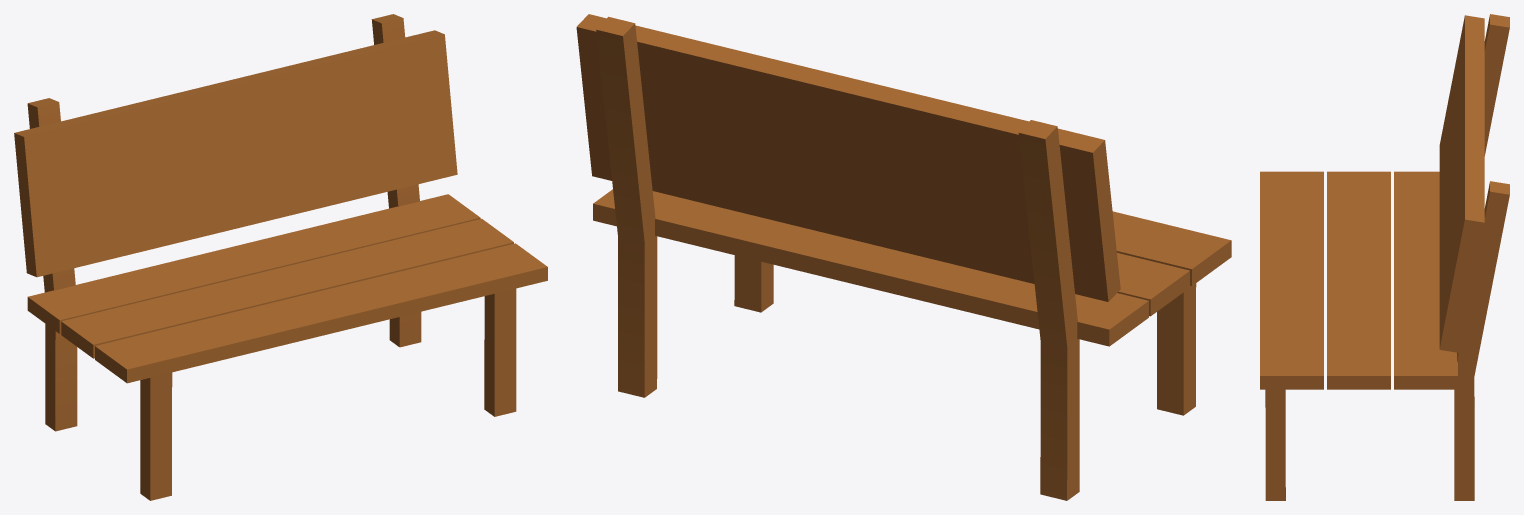
Rendered from Bank.FBX.
The picture shows the model from 3 angles, left to right: view 1: azimuth 30°, elevation 25°; view 2: azimuth 150°, elevation 25°; view 3: azimuth 270°, elevation 25°; orthographic projection. The views are drawn at different scales.
Visible parts, largest first — view 1: bank; view 2: bank; view 3: bank.
Boxes of the visible parts, x1=… form: bank: x1=14, y1=14, x2=547, y2=500; bank: x1=576, y1=14, x2=1231, y2=500; bank: x1=1260, y1=14, x2=1509, y2=500.
Bounding box in the file's own units: 35.49 × 25.07 × 18.35.
